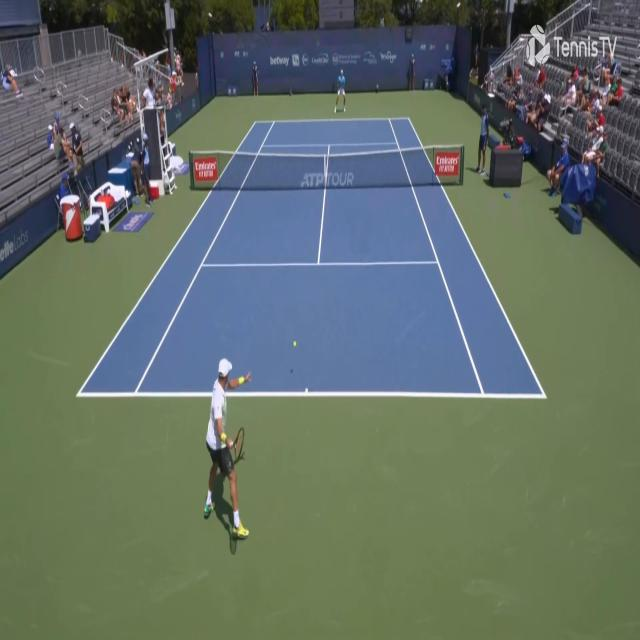tennis-player: (201, 351, 256, 550), (332, 67, 348, 114)
